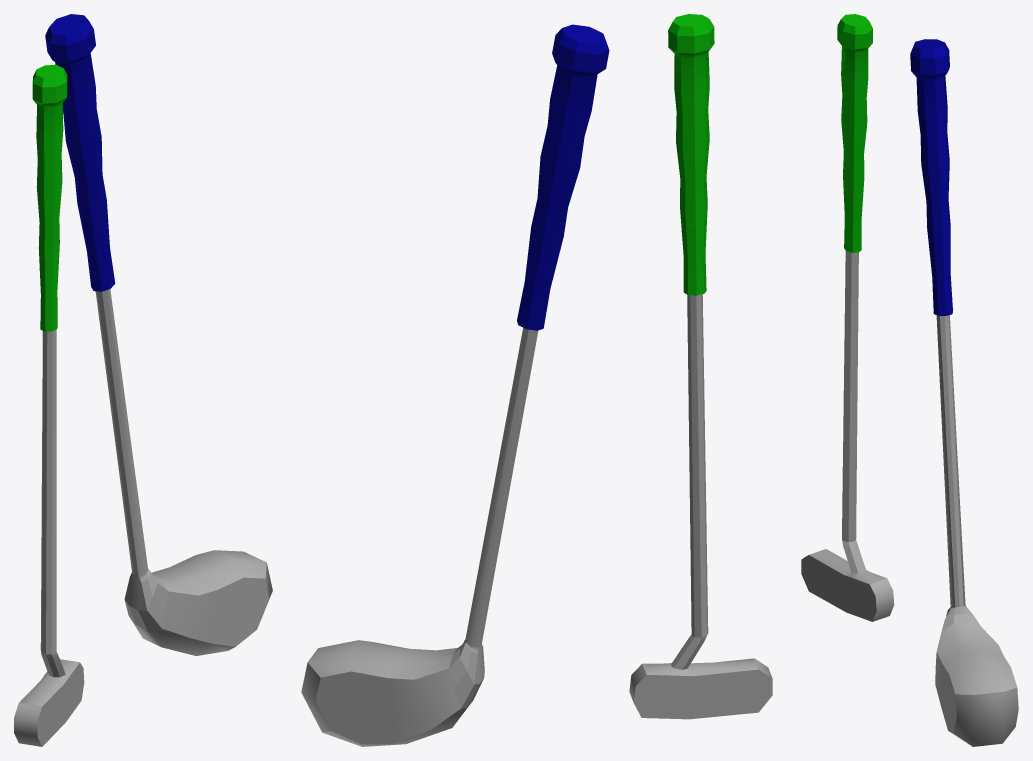
Rendered from golf clubs.fbx.
The picture shows the model from 3 angles, left to right: view 1: azimuth 30°, elevation 25°; view 2: azimuth 150°, elevation 25°; view 3: azimuth 270°, elevation 25°; orthographic projection. The views are drawn at different scales.
Parts seen in each view (by area): view 1: golf_club_01, golf_club_02; view 2: golf_club_01, golf_club_02; view 3: golf_club_01, golf_club_02.
Boxes of the visible parts, x1=… form: golf_club_01: x1=45, y1=14, x2=272, y2=655; golf_club_02: x1=14, y1=65, x2=84, y2=746; golf_club_01: x1=301, y1=24, x2=609, y2=746; golf_club_02: x1=629, y1=14, x2=772, y2=719; golf_club_01: x1=910, y1=39, x2=1018, y2=746; golf_club_02: x1=801, y1=14, x2=894, y2=621.
Bounding box in the file's own units: 19.91 × 37.86 × 12.02.
